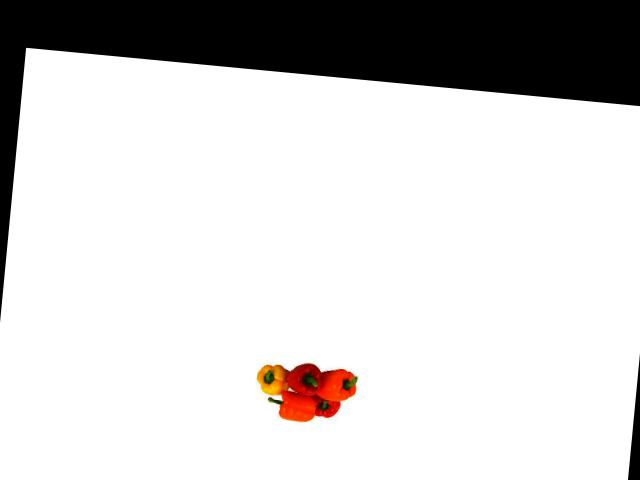bell_pepper: (314, 363, 367, 407)
